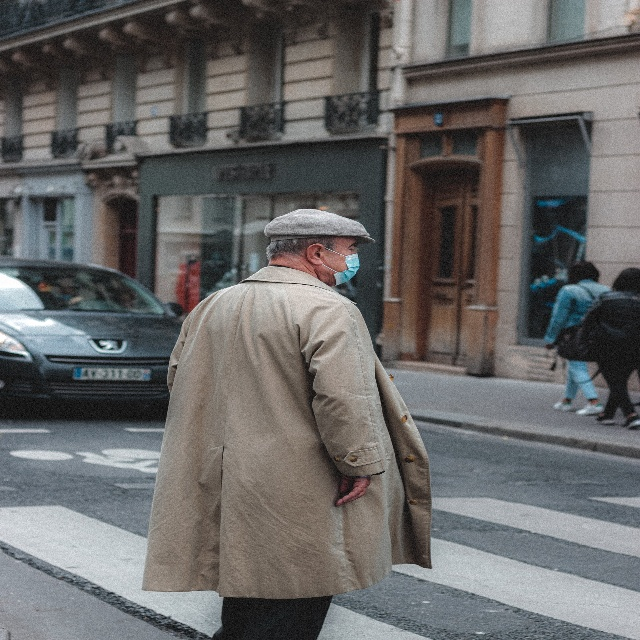Mascara: (321, 246, 360, 286)
Sin_guantes: (334, 475, 370, 507)
